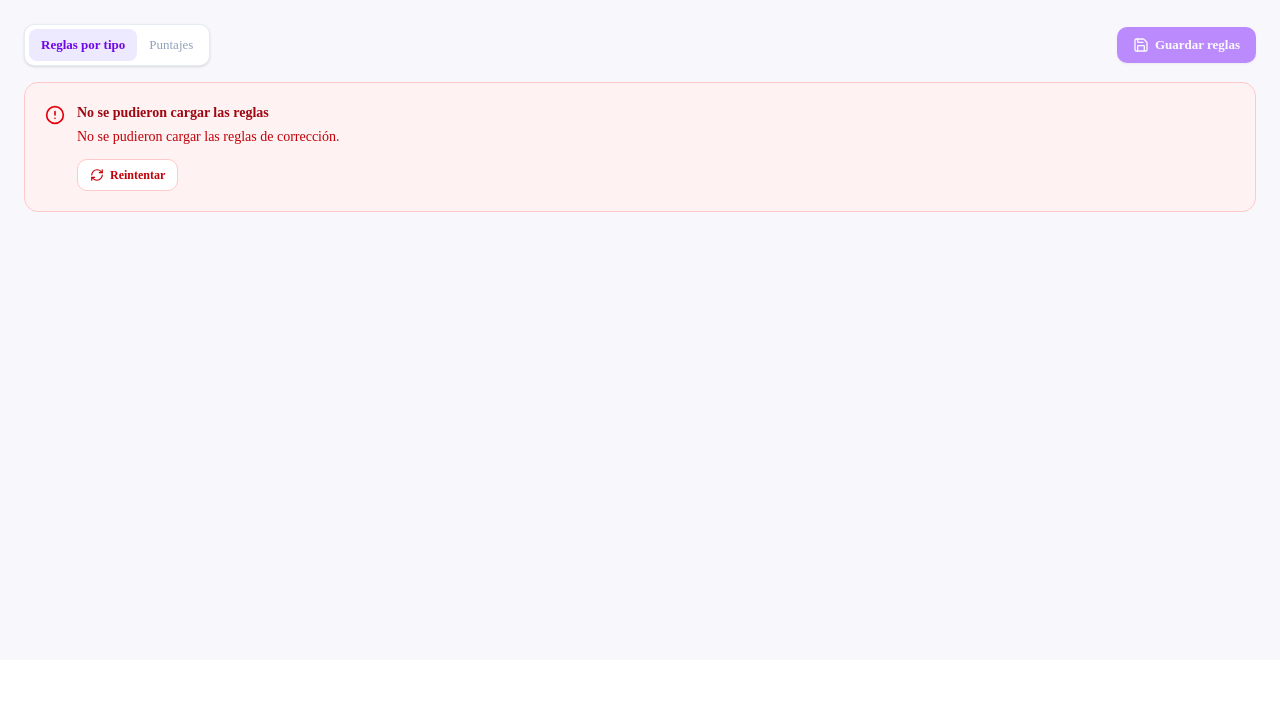
Scenario: ReglasCorreccion › muestra el error de carga y permite reintentar
The image size is (1280, 710).
Expected: the message is shown, left=24, top=82, right=1256, bottom=212
Expected: the text "No se pudieron cargar las reglas de corrección." is shown, left=77, top=126, right=340, bottom=146
Click the button "Reintentar" at (128, 174), box left=77, top=158, right=178, bottom=190
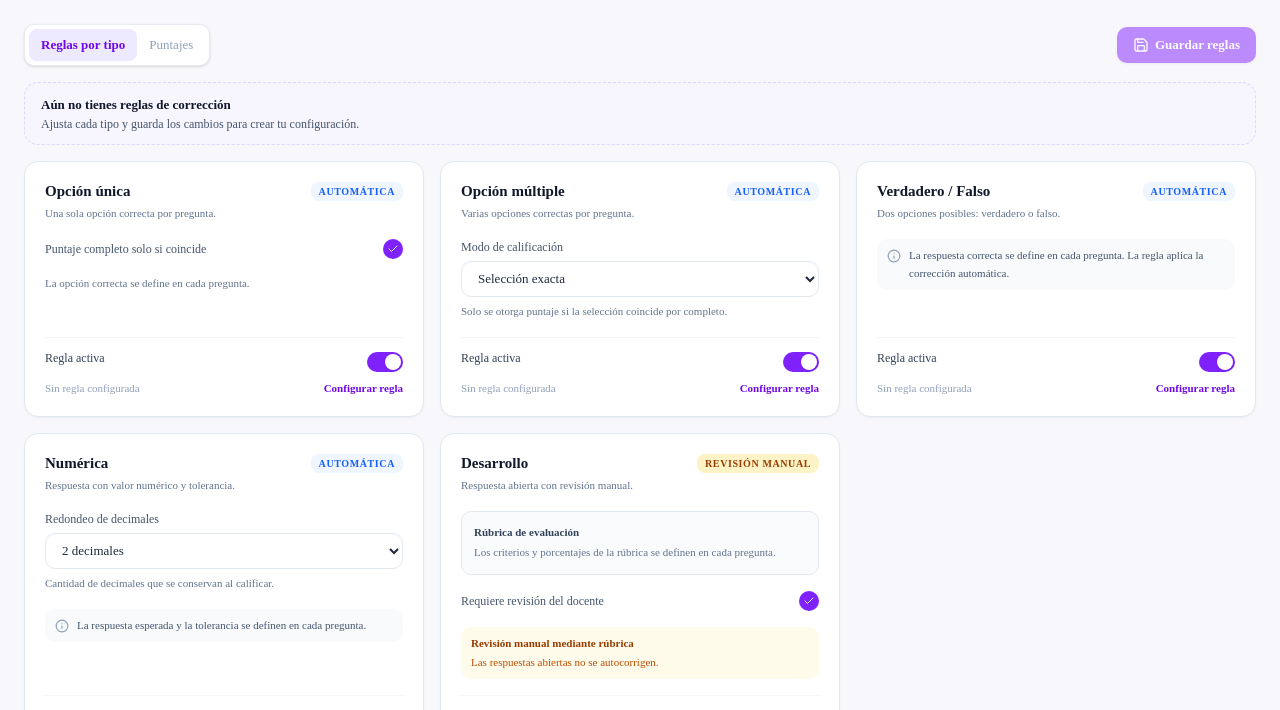
Result: the text "Aún no tienes reglas de corrección" is shown at left=41, top=96, right=231, bottom=112
